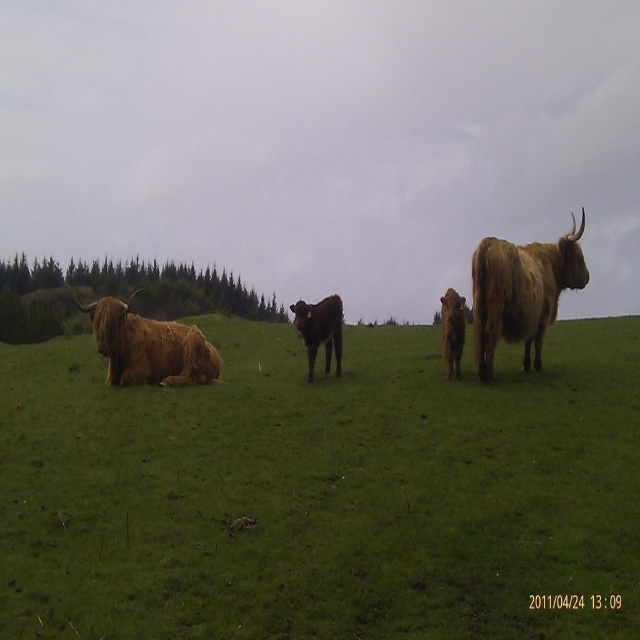Cattle: (470, 203, 589, 381), (67, 284, 224, 389), (287, 290, 349, 391), (439, 287, 466, 382)
